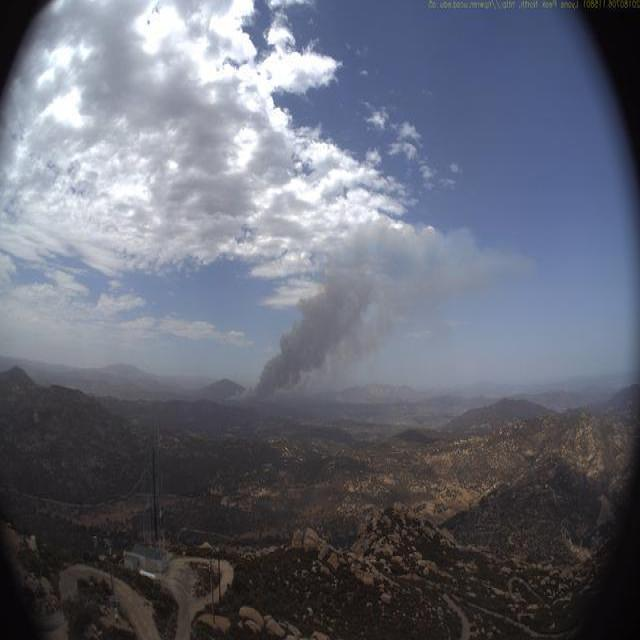Smoke: (245, 222, 470, 414)
